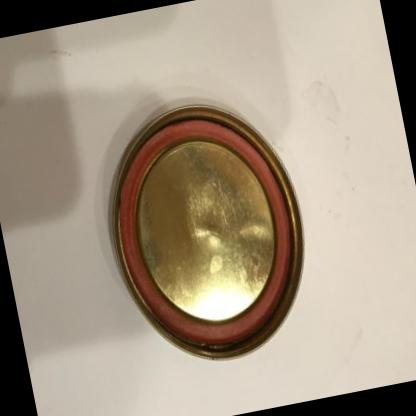Metal: (110, 104, 302, 359)
